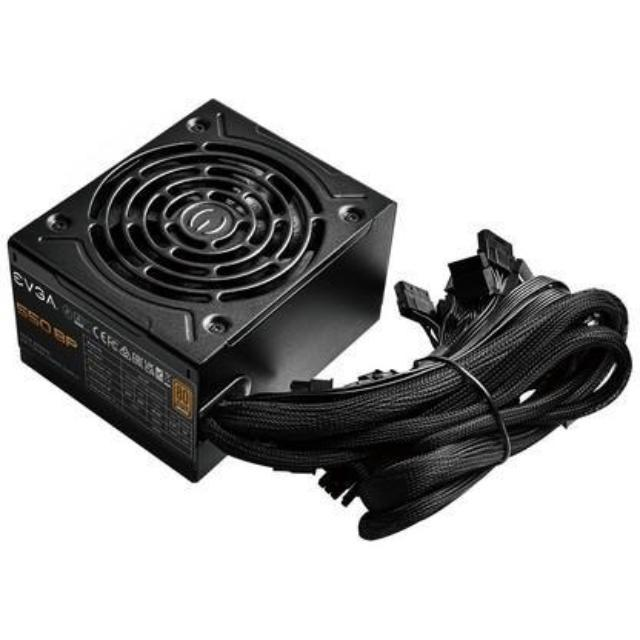PSU: (0, 81, 406, 508)
